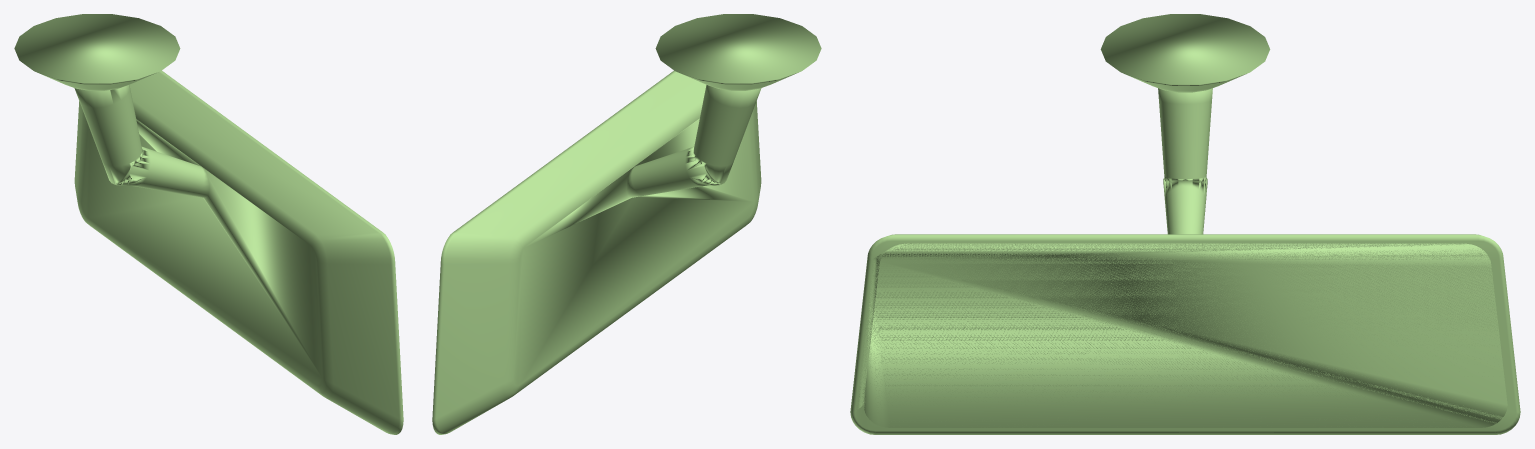
File: rearviewmirror.obj
The picture shows the model from 3 angles, left to right: view 1: azimuth 30°, elevation 25°; view 2: azimuth 150°, elevation 25°; view 3: azimuth 270°, elevation 25°; orthographic projection. The views are drawn at different scales.
Visible parts, largest first — view 1: mirror_base; view 2: mirror_base; view 3: mirror_base.
Boxes of the visible parts, <box> form: mirror_base: <box>14,14,403,434</box>; mirror_base: <box>432,14,821,434</box>; mirror_base: <box>850,14,1520,434</box>.
Size of the model in its own units: 44.6 by 61.5 by 119.
